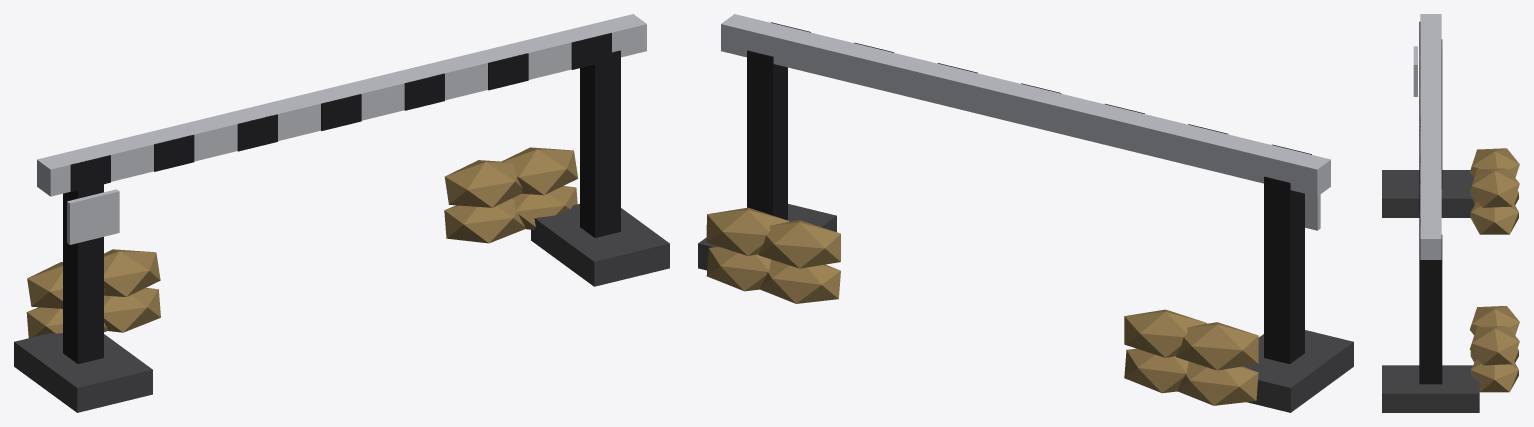
File: S5_checkpoint_a.glb
3 renders of one model, left to right at view 1: azimuth 30°, elevation 25°; view 2: azimuth 150°, elevation 25°; view 3: azimuth 270°, elevation 25°, orthographic. The views are drawn at different scales.
Visible parts, largest first — view 1: S5_checkpoint_a; view 2: S5_checkpoint_a; view 3: S5_checkpoint_a.
Part boxes in pixels (bbox=[...]): S5_checkpoint_a: bbox=[14, 14, 669, 412]; S5_checkpoint_a: bbox=[698, 14, 1353, 412]; S5_checkpoint_a: bbox=[1382, 14, 1519, 412].
Bounding box in the file's own units: 3 × 1.09 × 0.7765.
